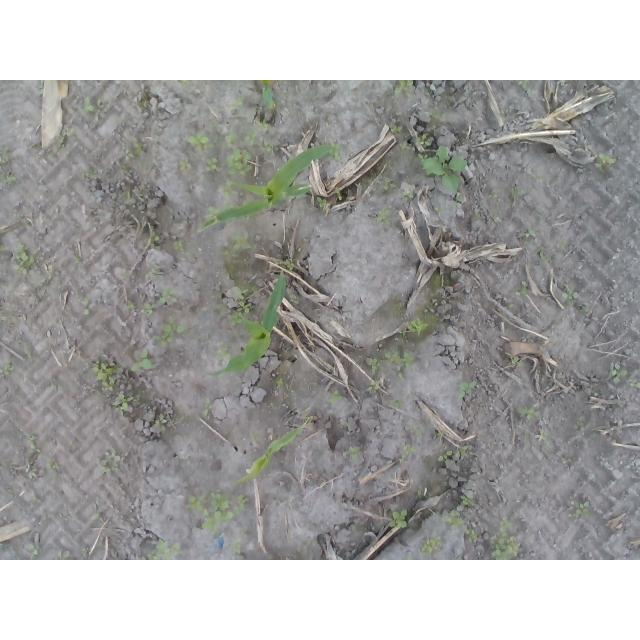Maize: (198, 140, 330, 236), (207, 274, 287, 382), (237, 426, 304, 486), (261, 82, 276, 109)
Weeds: (417, 145, 472, 195), (186, 493, 251, 531), (224, 131, 256, 178), (490, 513, 522, 560), (152, 312, 189, 348), (88, 359, 124, 394), (230, 280, 252, 326), (222, 231, 254, 257), (14, 239, 35, 273), (148, 538, 180, 560), (187, 129, 218, 151), (435, 194, 465, 215), (383, 348, 413, 369), (132, 347, 157, 371), (399, 319, 429, 338), (100, 447, 120, 475), (609, 361, 629, 385), (437, 446, 467, 462), (363, 350, 381, 374), (443, 511, 466, 528), (518, 404, 541, 421), (111, 392, 129, 413), (420, 536, 441, 554), (392, 80, 414, 97), (389, 510, 408, 529), (55, 128, 73, 148), (596, 153, 617, 170), (574, 501, 591, 520), (145, 231, 162, 249), (160, 287, 177, 305), (82, 96, 98, 115), (458, 381, 474, 400), (376, 207, 392, 226), (464, 528, 481, 545), (384, 176, 401, 193), (204, 155, 220, 173), (213, 344, 231, 360), (78, 296, 91, 317), (25, 544, 41, 561), (29, 433, 41, 455), (329, 143, 343, 161), (0, 172, 16, 187), (229, 96, 244, 112), (348, 446, 360, 466), (515, 280, 529, 297), (254, 116, 272, 129), (0, 143, 10, 166), (416, 134, 431, 149), (391, 368, 405, 384), (562, 288, 578, 302), (224, 186, 241, 199), (178, 160, 195, 173), (142, 303, 157, 317), (47, 459, 60, 475), (25, 464, 38, 480), (152, 419, 169, 431), (432, 110, 449, 122), (203, 398, 213, 418), (329, 390, 343, 404), (1, 364, 16, 377), (524, 225, 537, 239), (303, 409, 313, 427), (367, 381, 381, 393), (628, 378, 640, 392), (317, 196, 329, 209), (134, 143, 146, 156), (461, 495, 475, 506), (207, 206, 221, 217), (248, 431, 263, 441), (262, 142, 274, 154), (58, 552, 74, 561), (390, 122, 402, 134), (174, 241, 187, 252), (402, 191, 415, 202), (535, 431, 547, 442), (404, 445, 416, 456), (120, 190, 133, 200), (36, 80, 44, 96), (141, 97, 152, 108), (399, 143, 410, 154), (126, 302, 138, 312), (487, 191, 498, 201), (517, 80, 528, 90), (95, 511, 104, 521), (73, 255, 82, 265), (512, 356, 522, 365), (289, 296, 299, 305), (286, 259, 294, 270), (233, 543, 241, 554), (88, 168, 97, 177), (335, 190, 342, 201), (296, 442, 305, 450), (24, 350, 33, 358), (394, 399, 403, 407), (494, 216, 503, 224), (472, 212, 480, 220), (511, 184, 518, 193), (276, 379, 285, 386), (179, 80, 189, 86), (282, 107, 290, 114), (0, 244, 6, 253), (80, 547, 88, 553)
